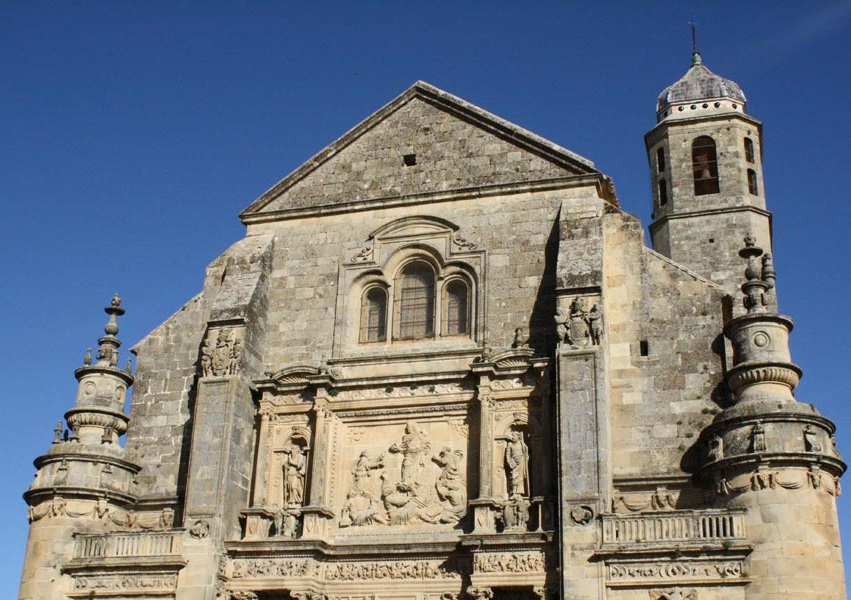fronton: (235, 74, 604, 220)
fronton-curvo: (368, 213, 461, 242)
